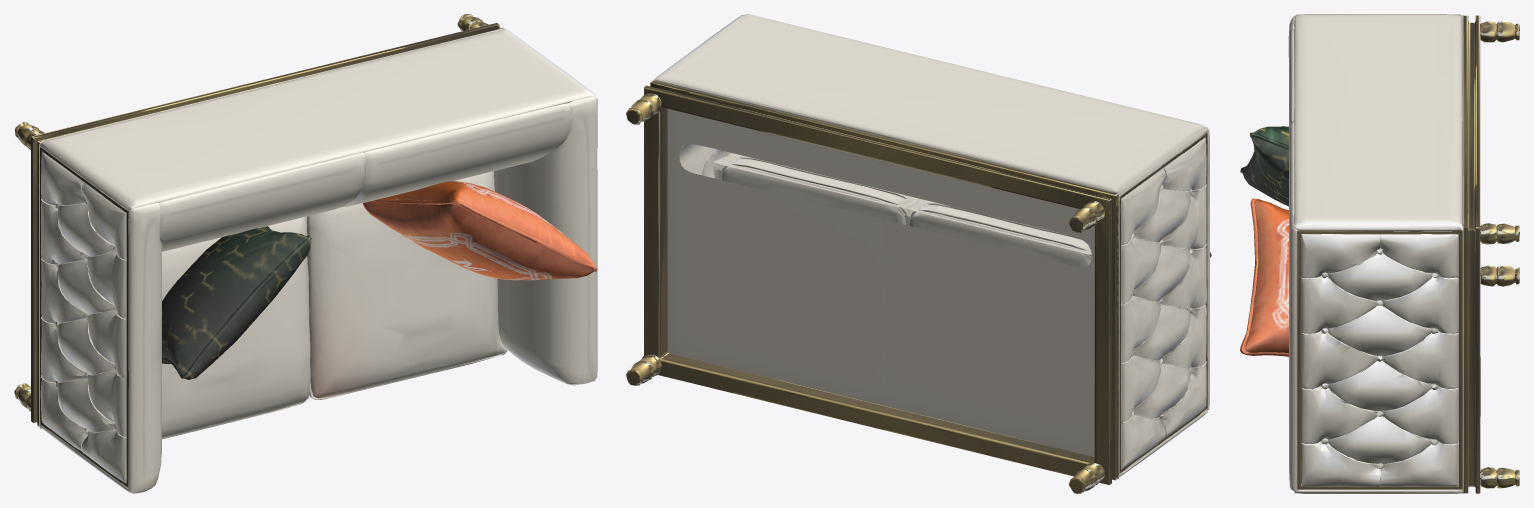
File: raw_model.glb
3 views of the same model, side by side, from view 1: azimuth 30°, elevation 25°; view 2: azimuth 150°, elevation 25°; view 3: azimuth 270°, elevation 25° (orthographic). The views are drawn at different scales.
Visible parts, largest first — view 1: raw_model.033; view 2: raw_model.033; view 3: raw_model.033.
Part boxes in pixels (bbox=[...]): raw_model.033: bbox=[14, 14, 597, 493]; raw_model.033: bbox=[626, 14, 1211, 493]; raw_model.033: bbox=[1240, 14, 1519, 493].
Bounding box in the file's own units: 1.55 × 0.8919 × 0.8213.
1 material, 1 textured.
